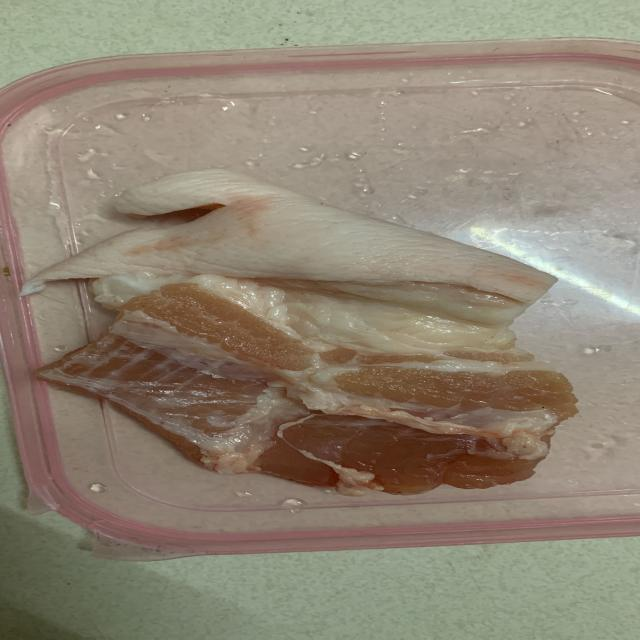chicken: (44, 179, 582, 486)
